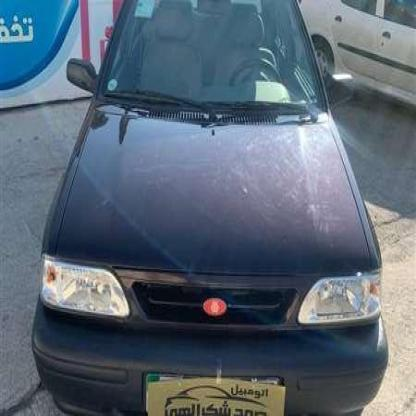Car: (27, 0, 392, 416), (302, 0, 415, 116)
